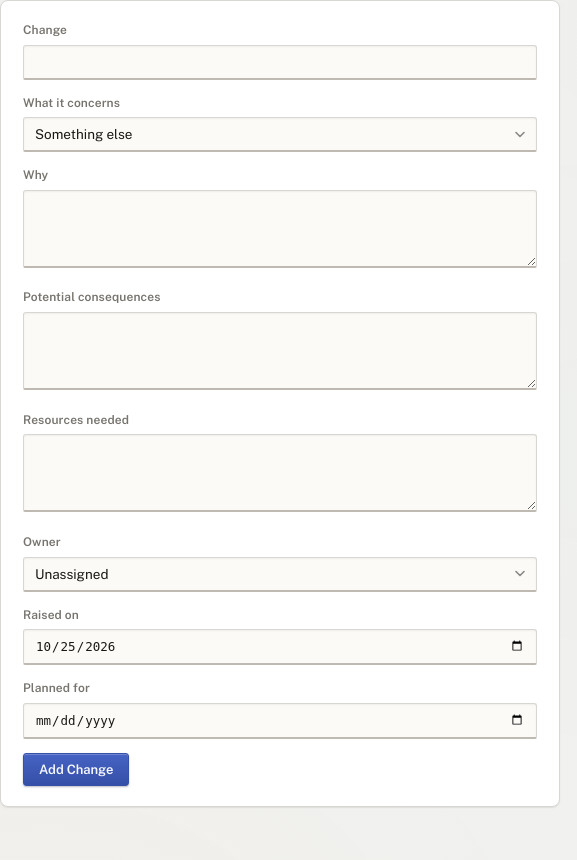
Test: ChangeForm › won't plan a change for before it was raised
In the field labelled "Change": (280, 62) [23,45,537,80], type "Backwards"
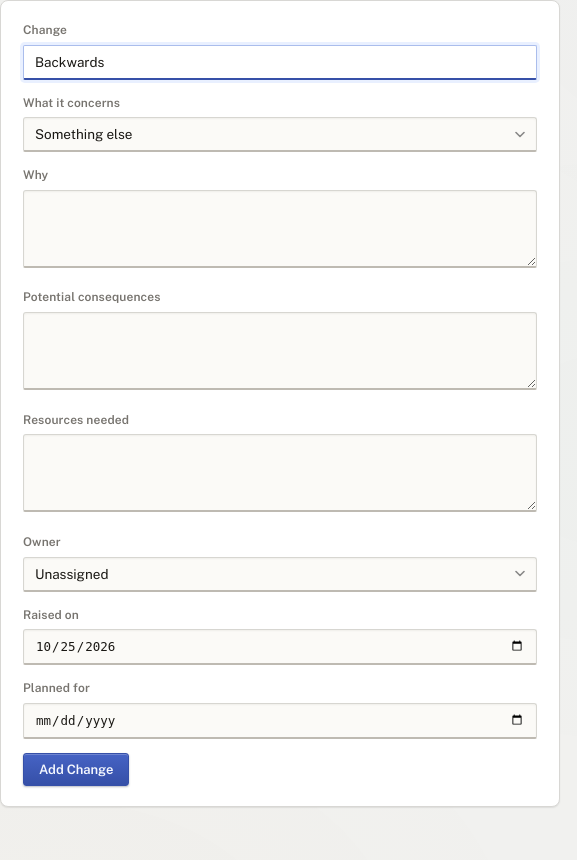
In the date field labelled "Raised on": (280, 647) [23,629,537,665], type "2099-08-01"
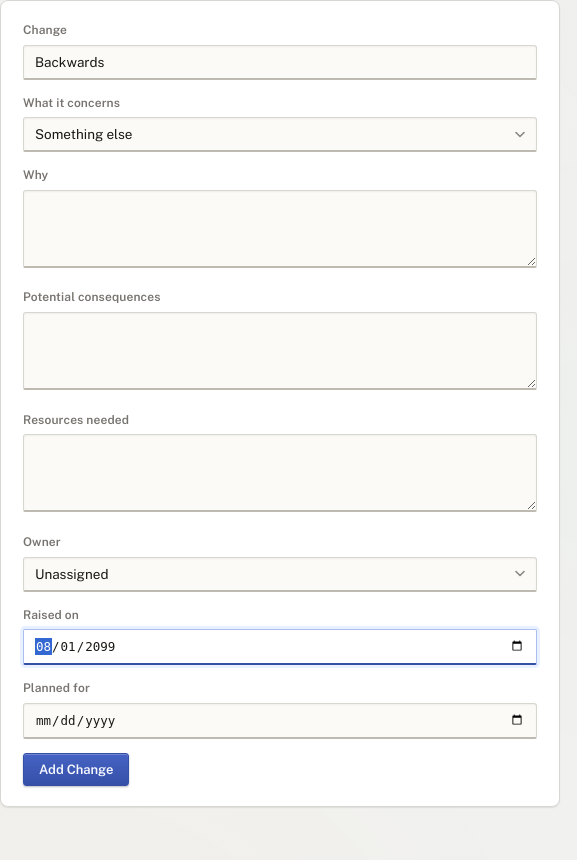
In the date field labelled "Planned for": (280, 721) [23,703,537,739], type "2099-07-01"
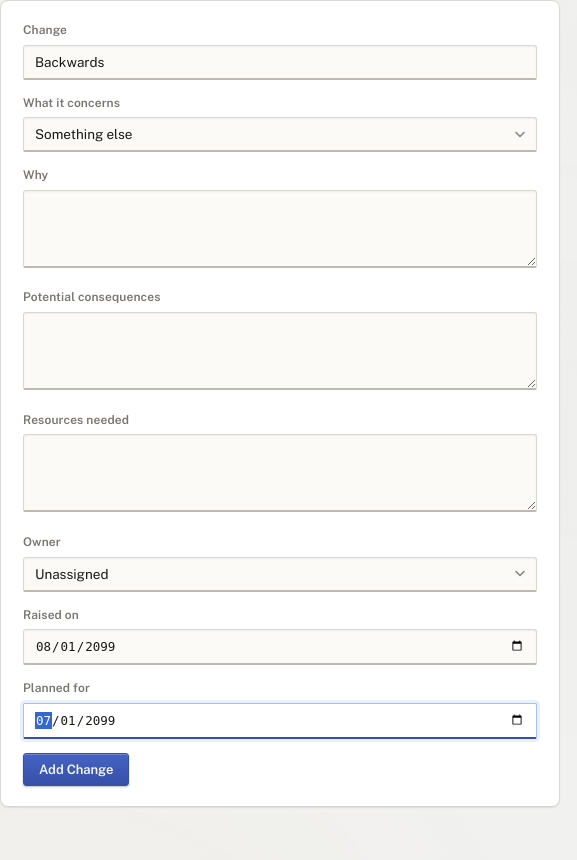
Click the button "Add Change": (76, 769) [23,753,129,786]
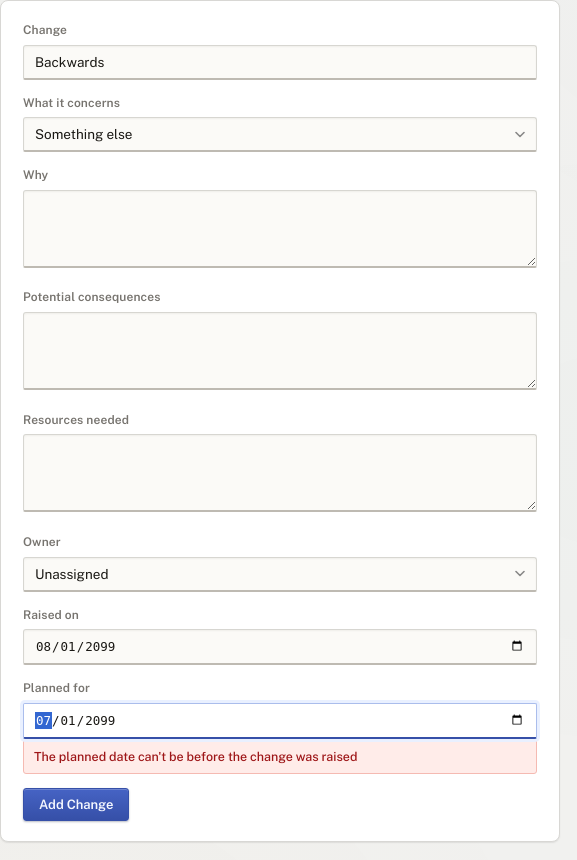
Result: the text "The planned date can't be before the change was raised" is shown at [23,739,537,774]
